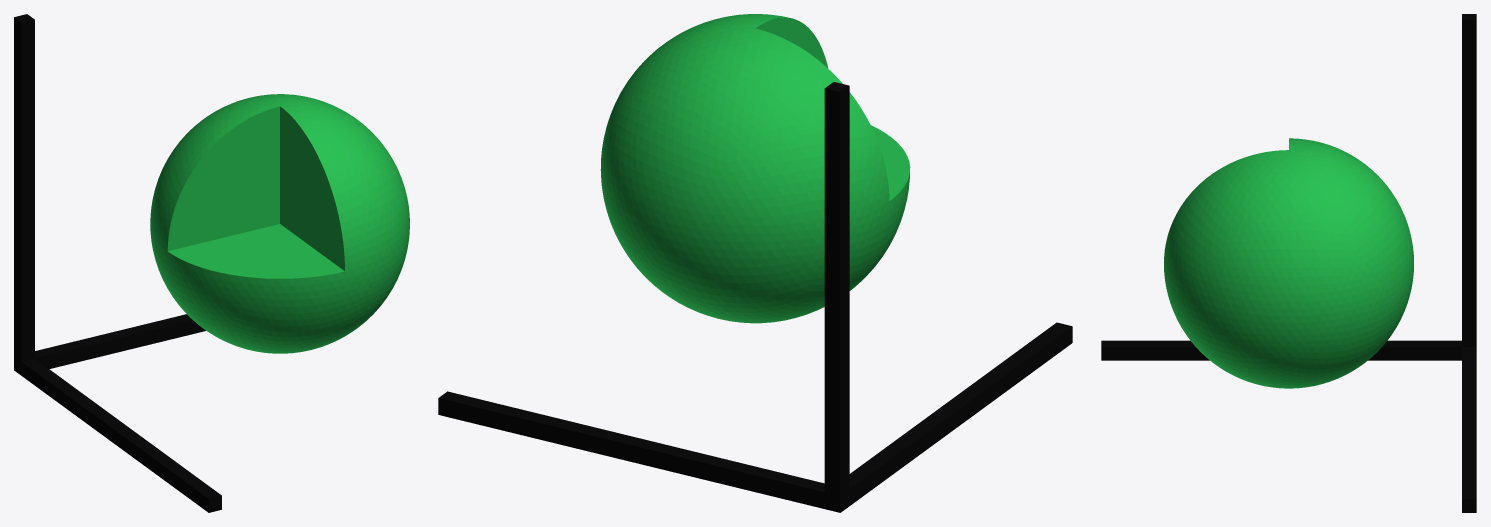
File: esfera1.gltf
3 renders of one model, left to right at view 1: azimuth 30°, elevation 25°; view 2: azimuth 150°, elevation 25°; view 3: azimuth 270°, elevation 25°, orthographic. The views are drawn at different scales.
Size of the model in its own units: 0.06 by 0.06 by 0.06.
